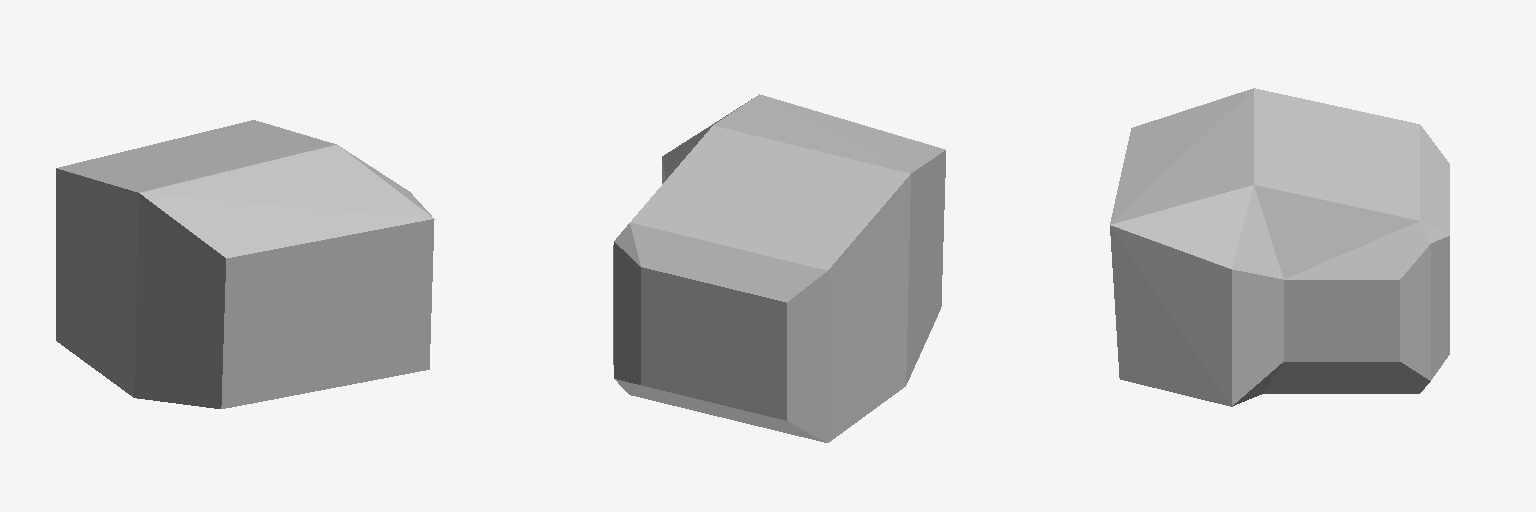
The model's file is blob.obj.
3 renders of one model, left to right at view 1: azimuth 30°, elevation 25°; view 2: azimuth 150°, elevation 25°; view 3: azimuth 270°, elevation 25°, orthographic.
Visible parts, largest first — view 1: Cube1; view 2: Cube1; view 3: Cube1.
Boxes of the visible parts, <box> form: Cube1: <box>56,120,434,408</box>; Cube1: <box>613,94,945,442</box>; Cube1: <box>1110,88,1449,406</box>.
Bounding box in the file's own units: 6.64 × 5.1 × 7.53.